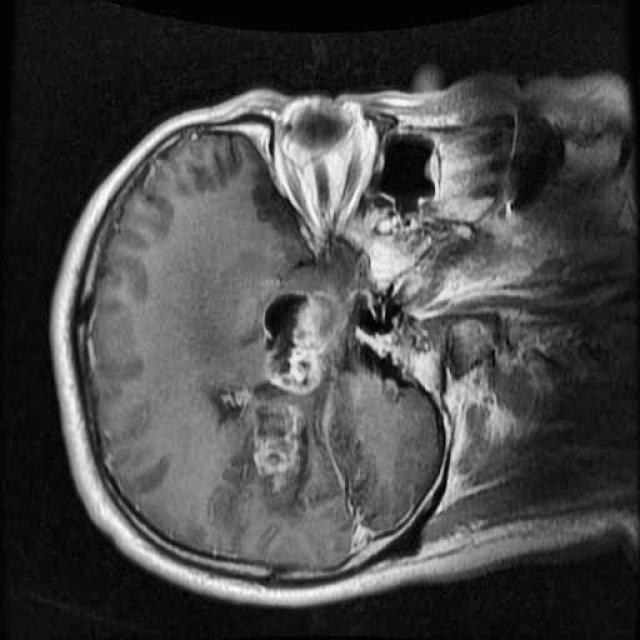Tumor: (199, 264, 362, 510)
